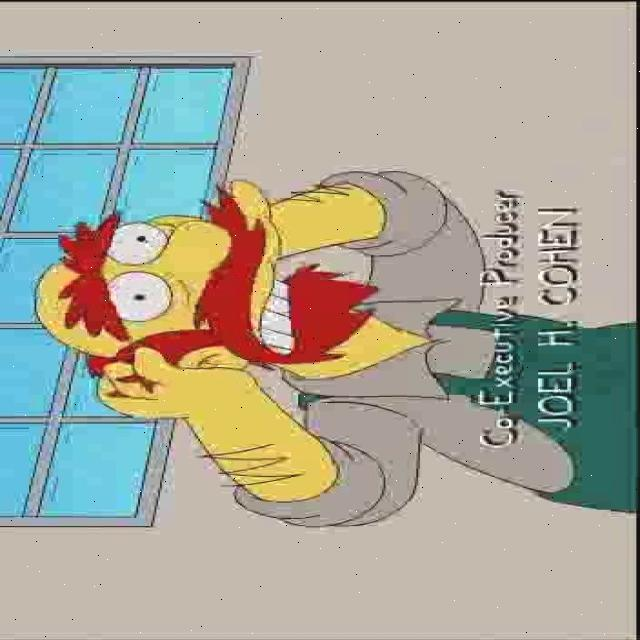Groundskeeper Willie: (31, 175, 398, 387)
